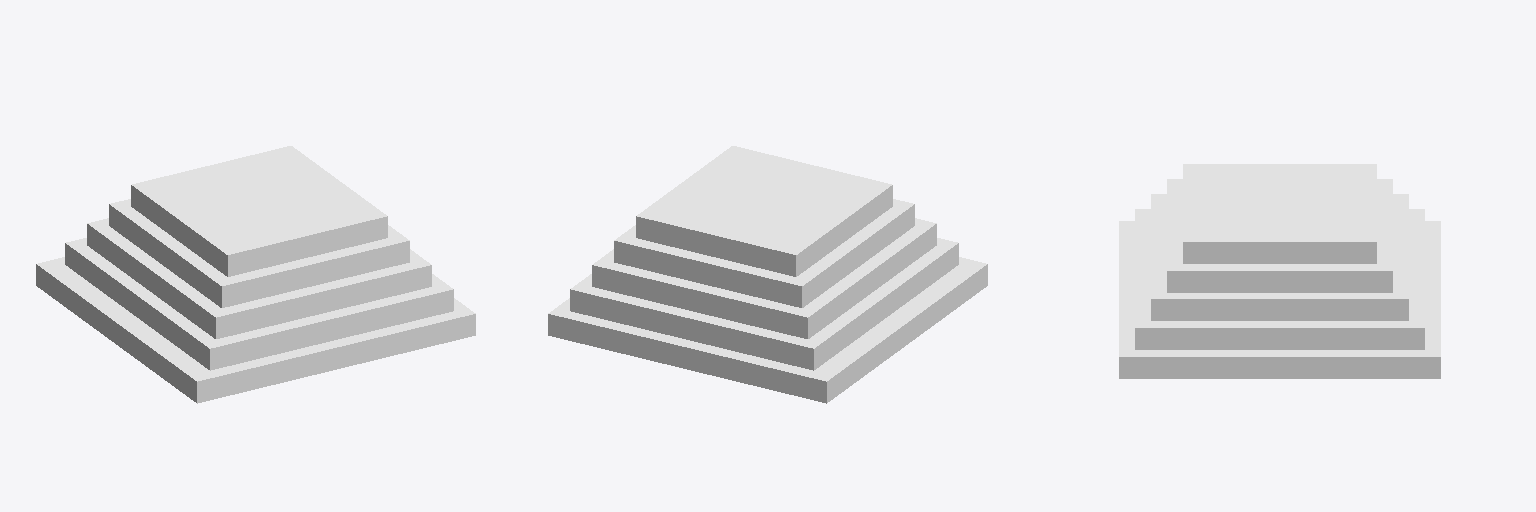
The model's file is halfPyramid.obj.
3 renders of one model, left to right at view 1: azimuth 30°, elevation 25°; view 2: azimuth 150°, elevation 25°; view 3: azimuth 270°, elevation 25°, orthographic.
Size of the model in its own units: 40 by 15 by 40.